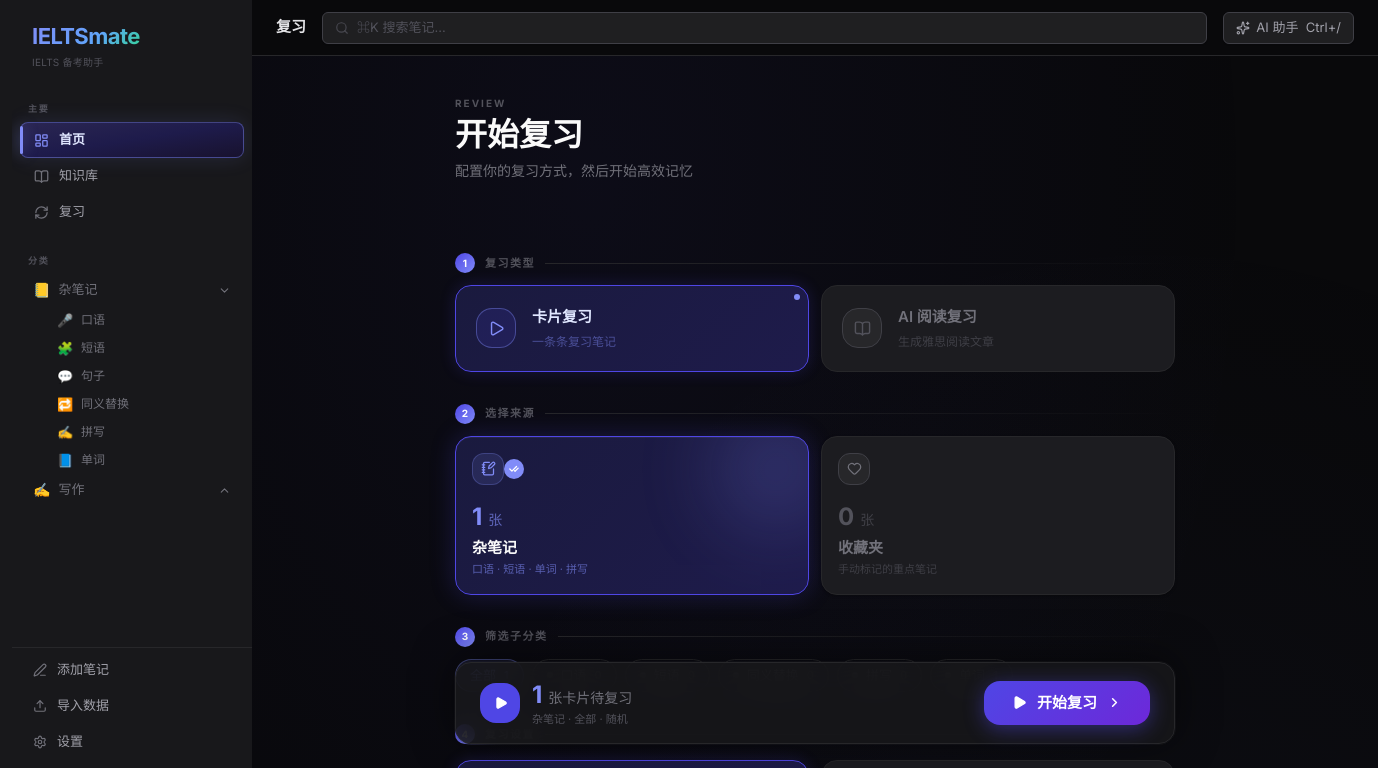
Test: ReviewSelection › AI 阅读复习页不再展示生成选项，只提供专属页入口
The width and height of the screenshot is (1378, 768).
Click the button "AI 阅读复习 生成雅思阅读文章": [862, 328] box 821,285 -> 1175,372
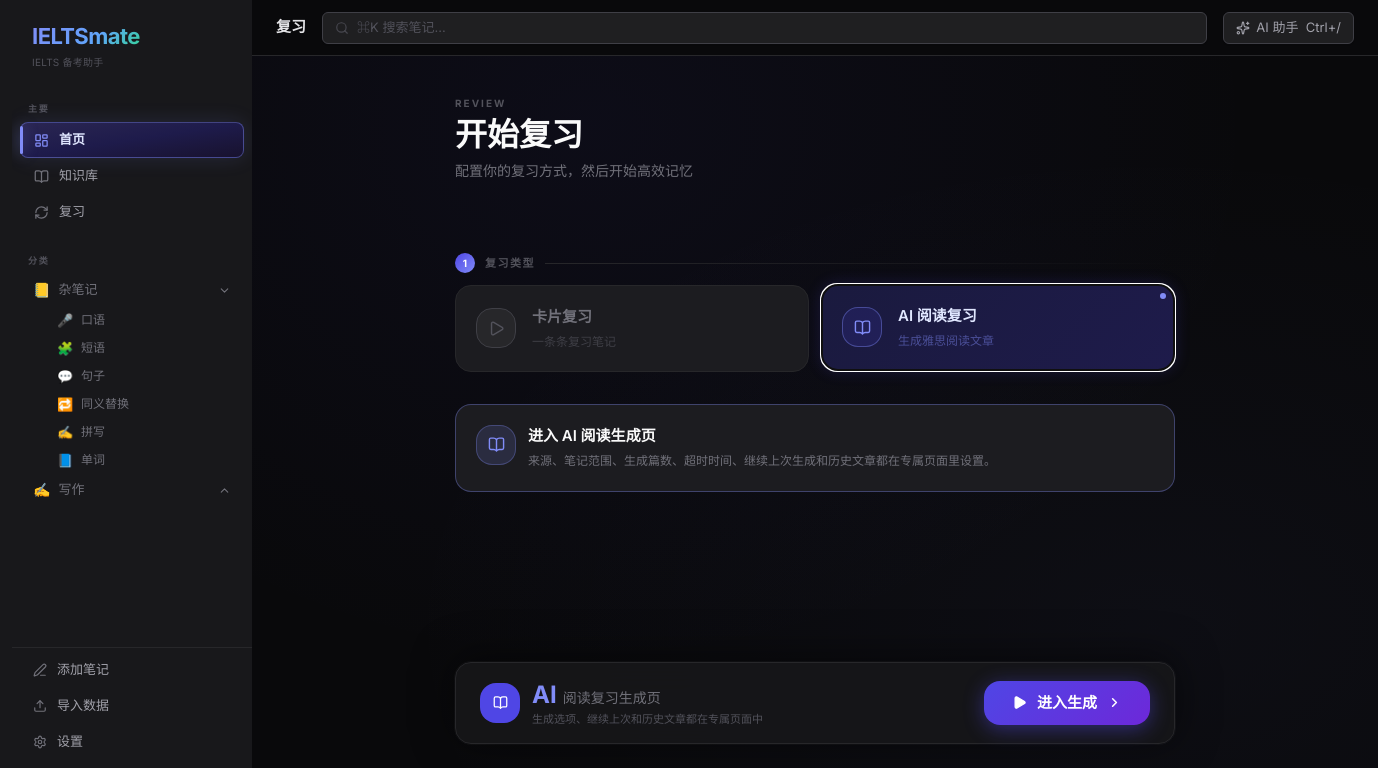
Expected: the text "进入 AI 阅读生成页" is shown, 528,426 -> 656,444
